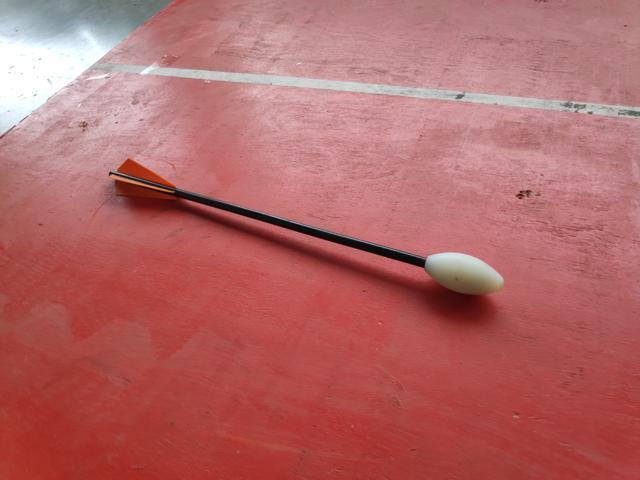Head: (422, 248, 509, 297)
Tail: (106, 154, 183, 204)
